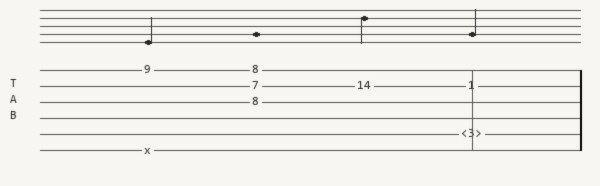1: (468, 80, 479, 92)
14: (357, 80, 375, 92)
7: (252, 80, 263, 92)
8: (252, 64, 263, 76), (252, 96, 263, 108)
9: (144, 64, 155, 76)
harmonic: (461, 128, 486, 140)
x: (144, 145, 155, 155)
